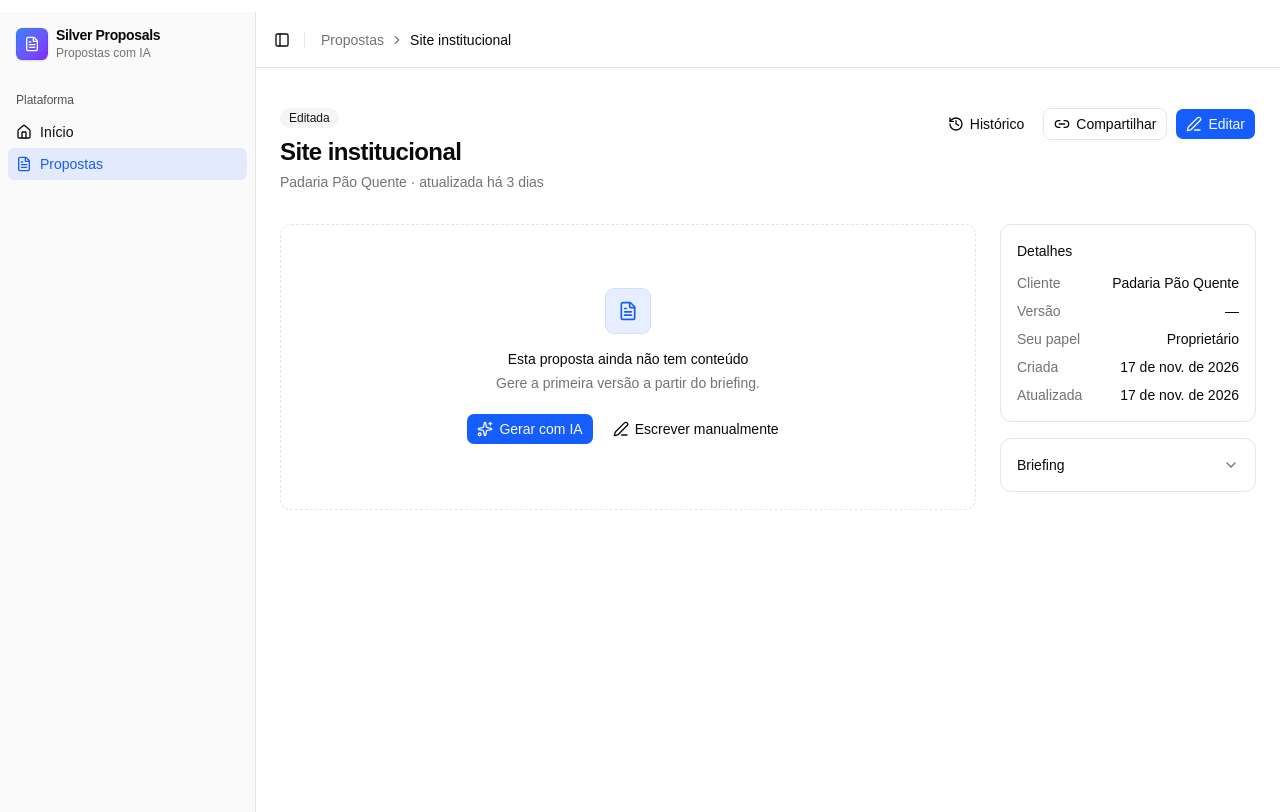
Scenario: ProposalPage › generates the first version from an empty proposal
This screenshot has width=1280, height=812.
Step 1. Click the button "Gerar com IA" → [530, 429], box left=466, top=413, right=594, bottom=445
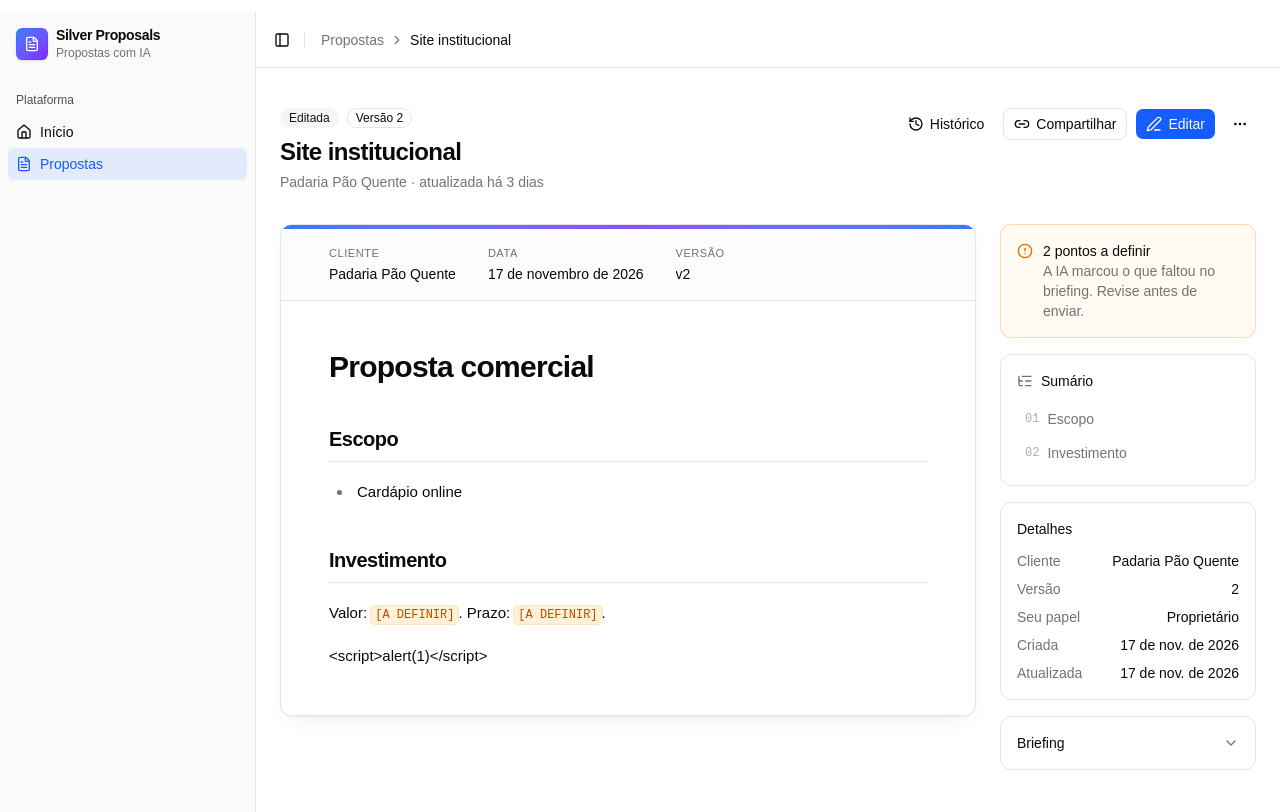
Now the text "Versão 2" is shown, box left=347, top=108, right=412, bottom=128
Now the heading "Escopo" is shown, box left=329, top=424, right=927, bottom=462
